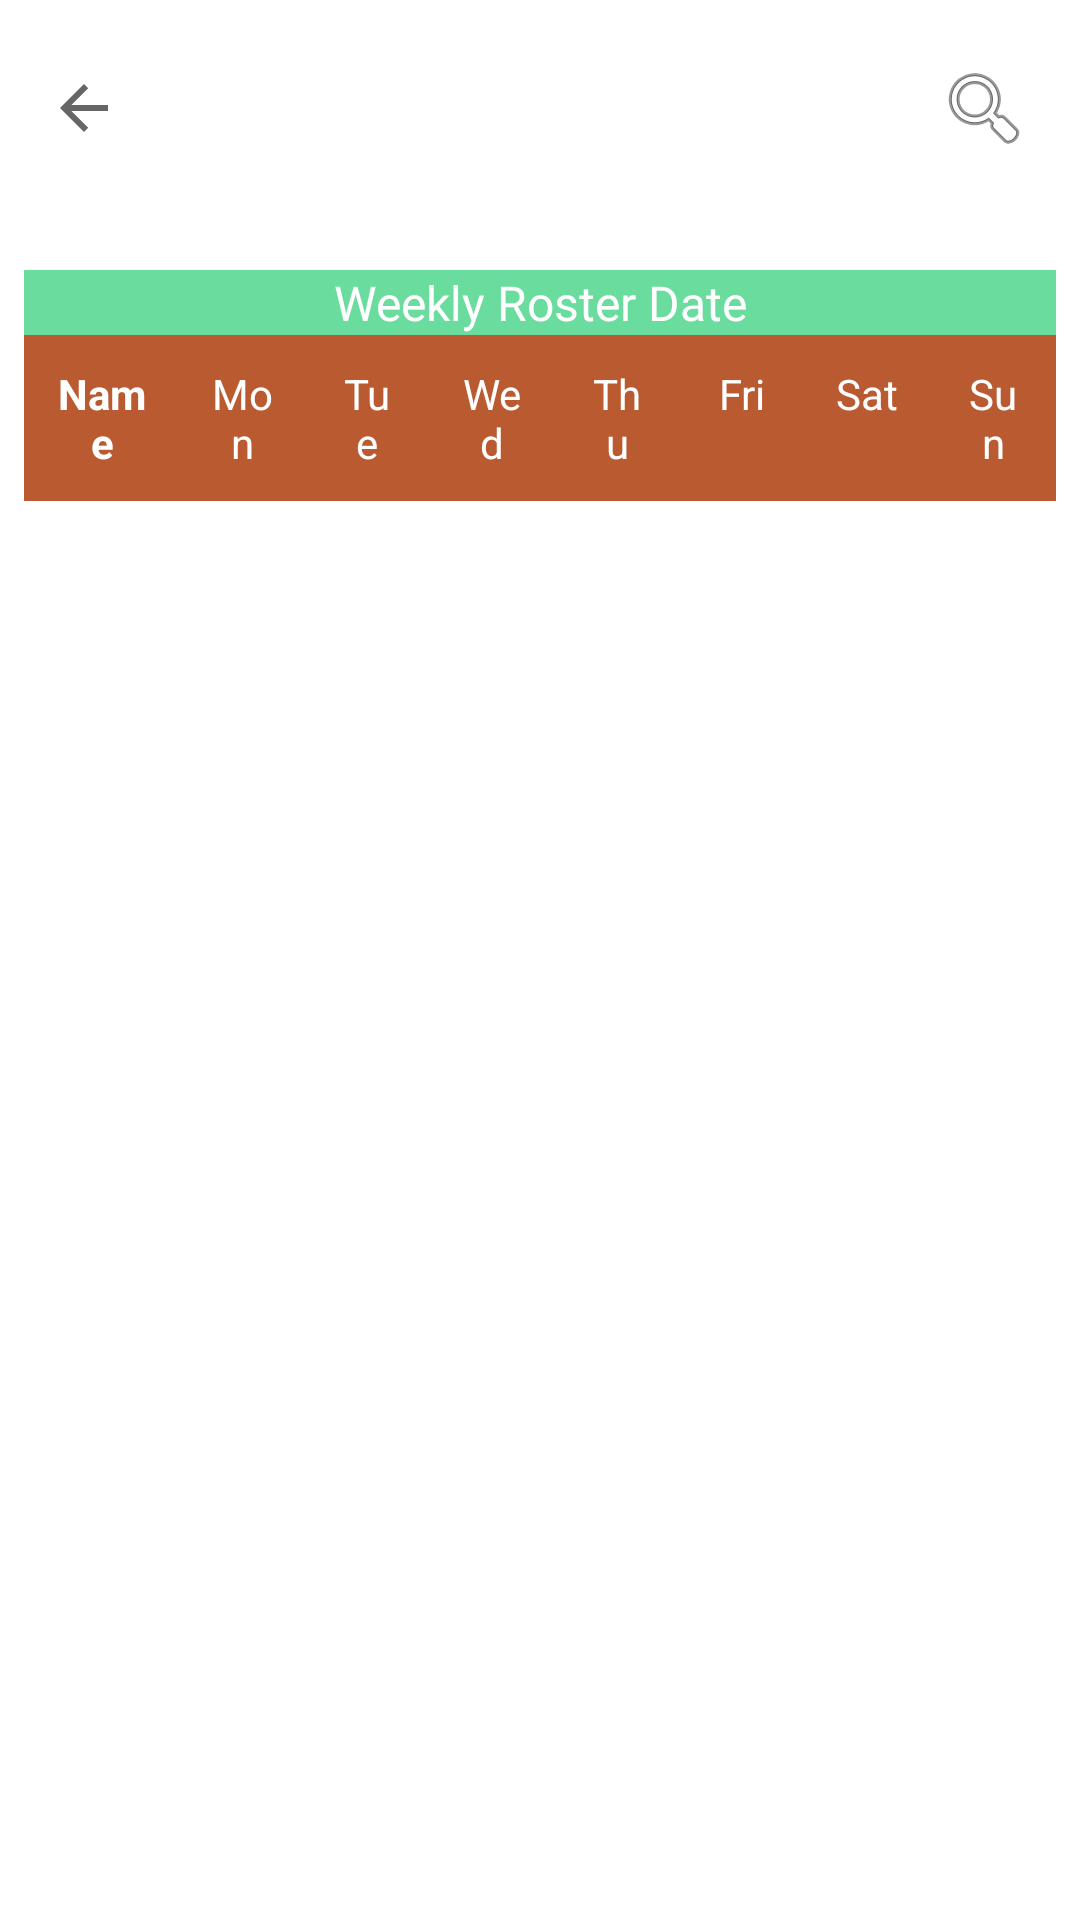

Icons on this 1080 x 1920 Android screen, each with its box as (x1, y1, x2, y2):
search: (948, 73, 1020, 144)
